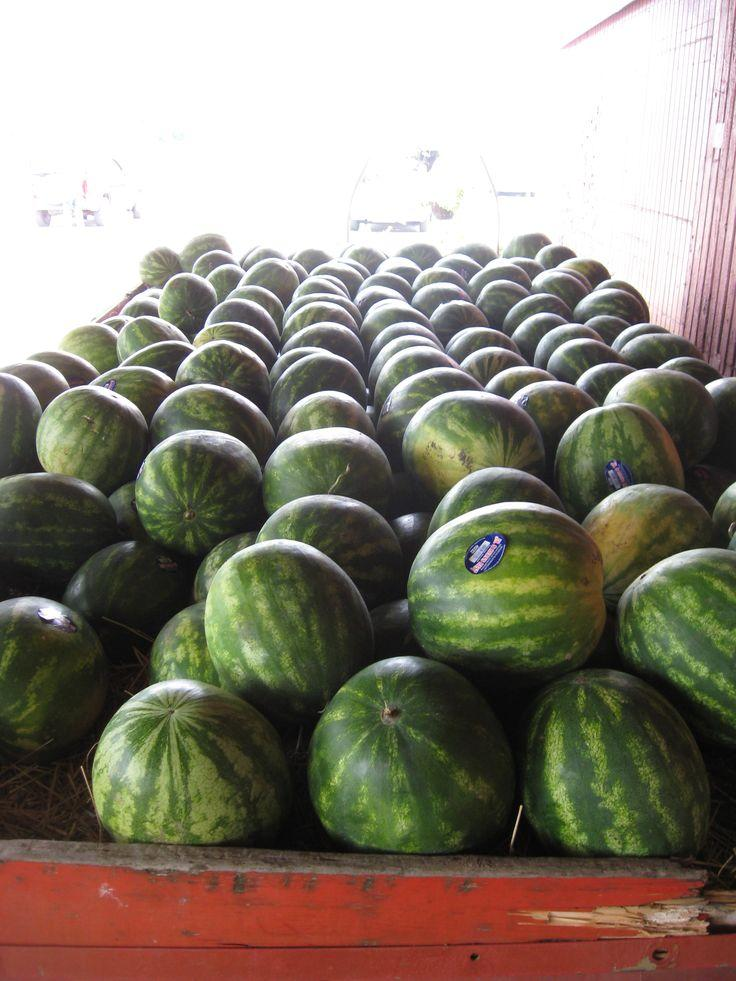watermelon: (0, 329, 736, 884)
